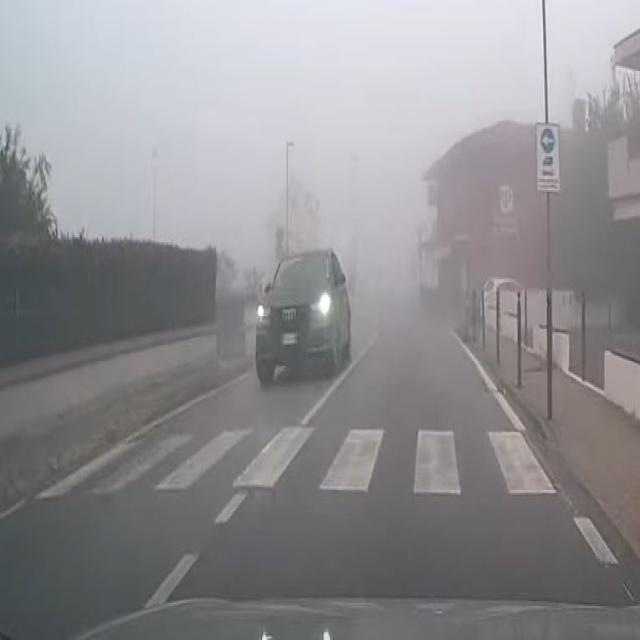Pedestrian crosswalk: (65, 415, 557, 503)
